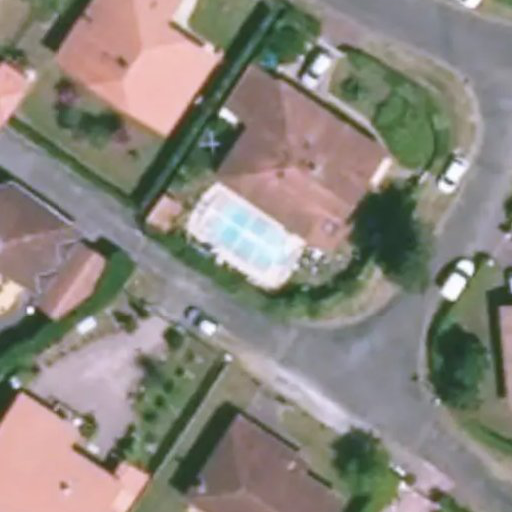pool: (214, 237, 297, 246)
